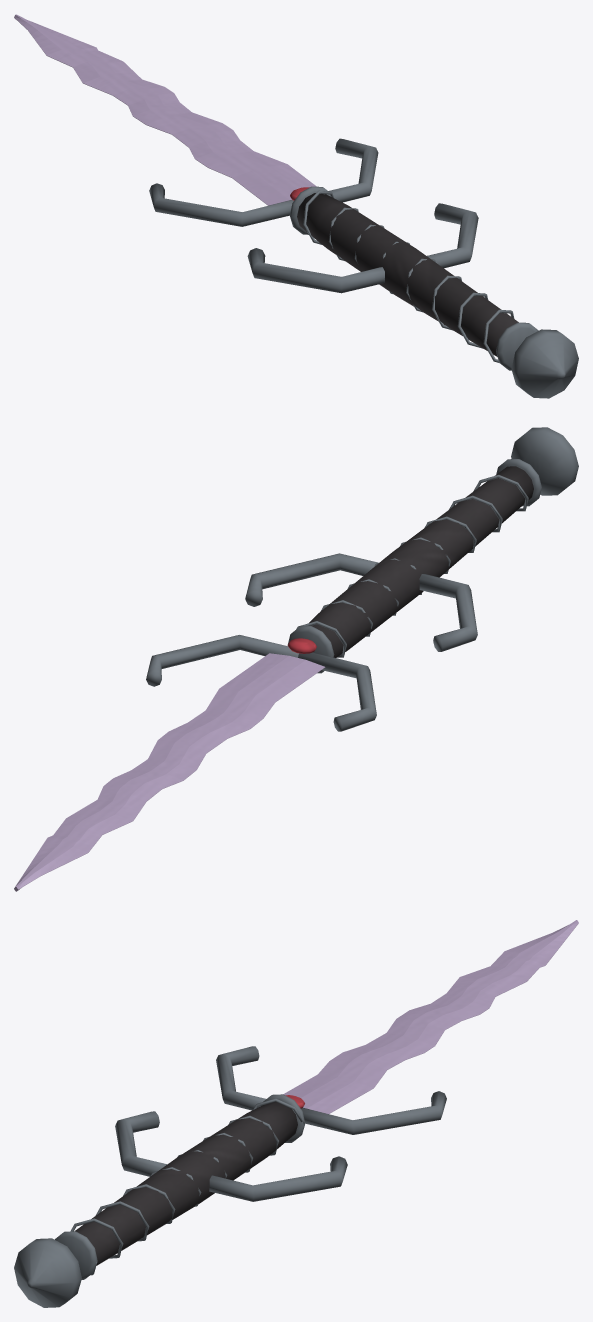
Rendered from item_2hsword2.glb.
3 views of the same model, one above another, from view 1: azimuth 30°, elevation 25°; view 2: azimuth 150°, elevation 25°; view 3: azimuth 330°, elevation 25° (orthographic).
Parts seen in each view (by area): view 1: swords_2hsword2; view 2: swords_2hsword2; view 3: swords_2hsword2.
Part boxes in pixels (bbox=[...]): swords_2hsword2: bbox=[14, 14, 578, 398]; swords_2hsword2: bbox=[14, 427, 578, 891]; swords_2hsword2: bbox=[14, 920, 578, 1307].
Bounding box in the file's own units: 0.3309 × 0.1016 × 1.38.
1 material, 1 textured.
